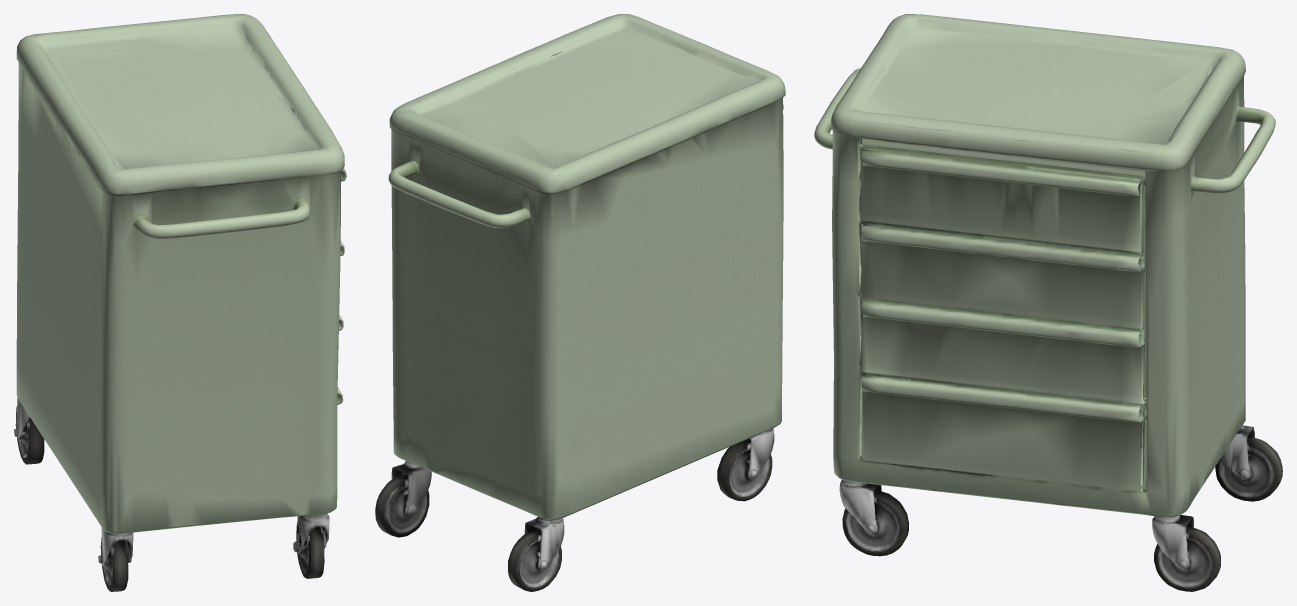
The model's file is repaired.glb.
3 views of the same model, side by side, from view 1: azimuth 30°, elevation 25°; view 2: azimuth 150°, elevation 25°; view 3: azimuth 270°, elevation 25° (orthographic). The views are drawn at different scales.
Visible parts, largest first — view 1: repaired; view 2: repaired; view 3: repaired.
Part boxes in pixels (bbox=[...]): repaired: bbox=[14, 14, 346, 591]; repaired: bbox=[375, 14, 785, 591]; repaired: bbox=[814, 14, 1282, 591].
Size of the model in its own units: 0.6789 by 0.9994 by 0.9443.
Materials: 1 (1 with a texture image).
